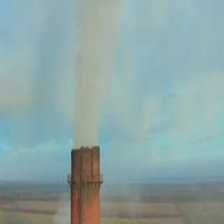smoke: (45, 2, 130, 148)
